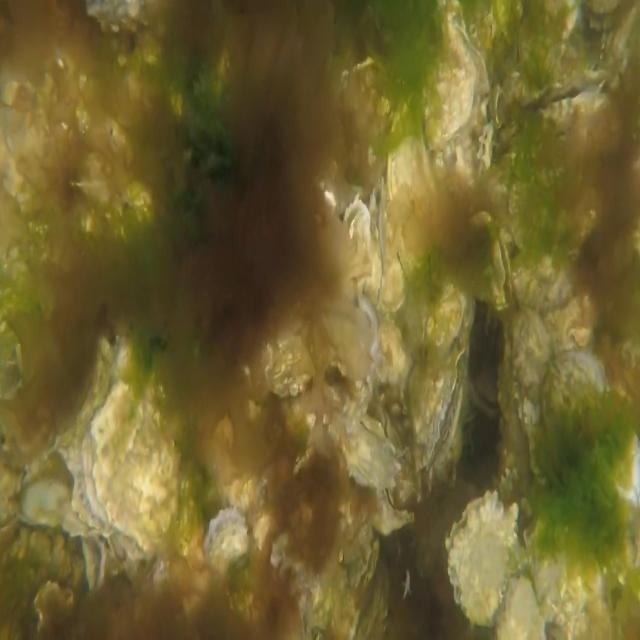Oyster-Closed: (524, 506, 602, 624), (410, 342, 466, 470), (327, 406, 402, 497), (371, 483, 416, 536)
Oyster-Indeterminate: (82, 378, 180, 558), (540, 346, 640, 501), (446, 489, 519, 630), (422, 0, 478, 147), (509, 307, 554, 481), (388, 132, 440, 282), (240, 322, 318, 398), (511, 248, 577, 309), (429, 272, 475, 355), (376, 187, 406, 314), (205, 503, 248, 565)
Oyster-Open: (515, 65, 615, 142), (342, 194, 372, 274), (490, 232, 515, 314)
